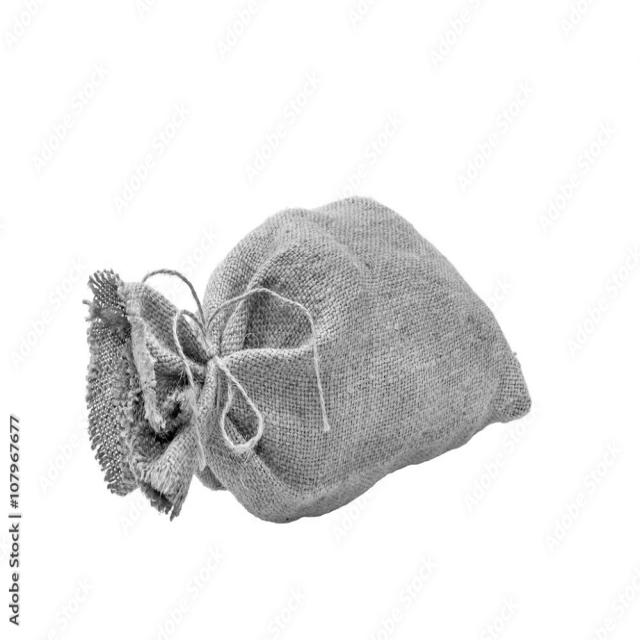sack: (85, 196, 533, 522)
